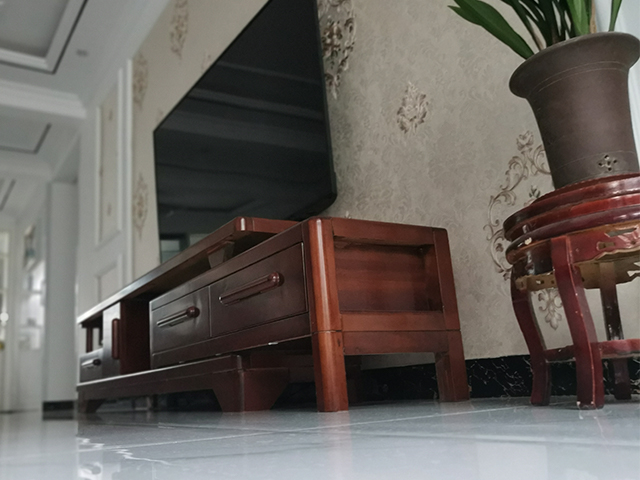cabinet: (73, 213, 475, 414)
stool: (500, 170, 640, 413)
